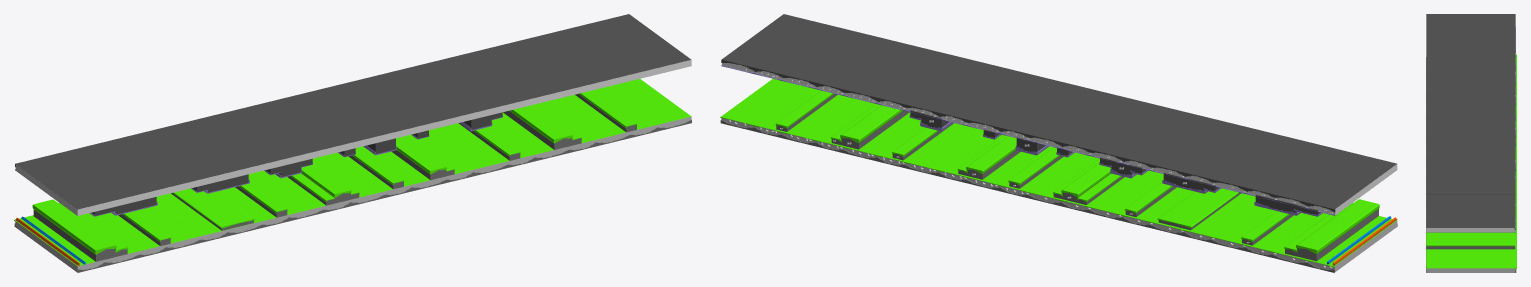
Rendered from magiversev4.fbx.
The picture shows the model from 3 angles, left to right: view 1: azimuth 30°, elevation 25°; view 2: azimuth 150°, elevation 25°; view 3: azimuth 270°, elevation 25°; orthographic projection. The views are drawn at different scales.
Visible parts, largest first — view 1: cielo, tierra, t15, t12, t3, t6, t9, t1, t7, t13, t11, t4 (+4 smaller); view 2: cielo, tierra, t15, t12, t3, t6, t1, t9, t7, t13, t11, t4 (+4 smaller); view 3: cielo, tierra, t1.
Part boxes in pixels (bbox=[...]): cielo: bbox=[15, 14, 691, 215]; tierra: bbox=[14, 79, 691, 272]; t15: bbox=[32, 199, 116, 261]; t12: bbox=[171, 188, 255, 230]; t3: bbox=[503, 105, 572, 149]; t6: bbox=[391, 136, 446, 180]; t9: bbox=[301, 163, 351, 203]; t1: bbox=[575, 90, 636, 132]; t7: bbox=[348, 147, 404, 189]; t13: bbox=[118, 211, 171, 245]; t11: bbox=[235, 182, 287, 217]; t4: bbox=[458, 123, 520, 160]; cielo: bbox=[721, 14, 1397, 215]; tierra: bbox=[720, 79, 1397, 272]; t15: bbox=[1296, 199, 1379, 261]; t12: bbox=[1157, 188, 1241, 230]; t3: bbox=[840, 105, 909, 149]; t6: bbox=[966, 136, 1020, 179]; t1: bbox=[775, 90, 837, 131]; t9: bbox=[1061, 163, 1110, 202]; t7: bbox=[1008, 147, 1063, 188]; t13: bbox=[1241, 211, 1293, 245]; t11: bbox=[1124, 182, 1176, 216]; t4: bbox=[892, 122, 953, 160]; cielo: bbox=[1426, 14, 1515, 232]; tierra: bbox=[1426, 54, 1516, 272]; t1: bbox=[1426, 241, 1515, 249].
Bounding box in the file's own units: 5865 × 578 × 1053.
